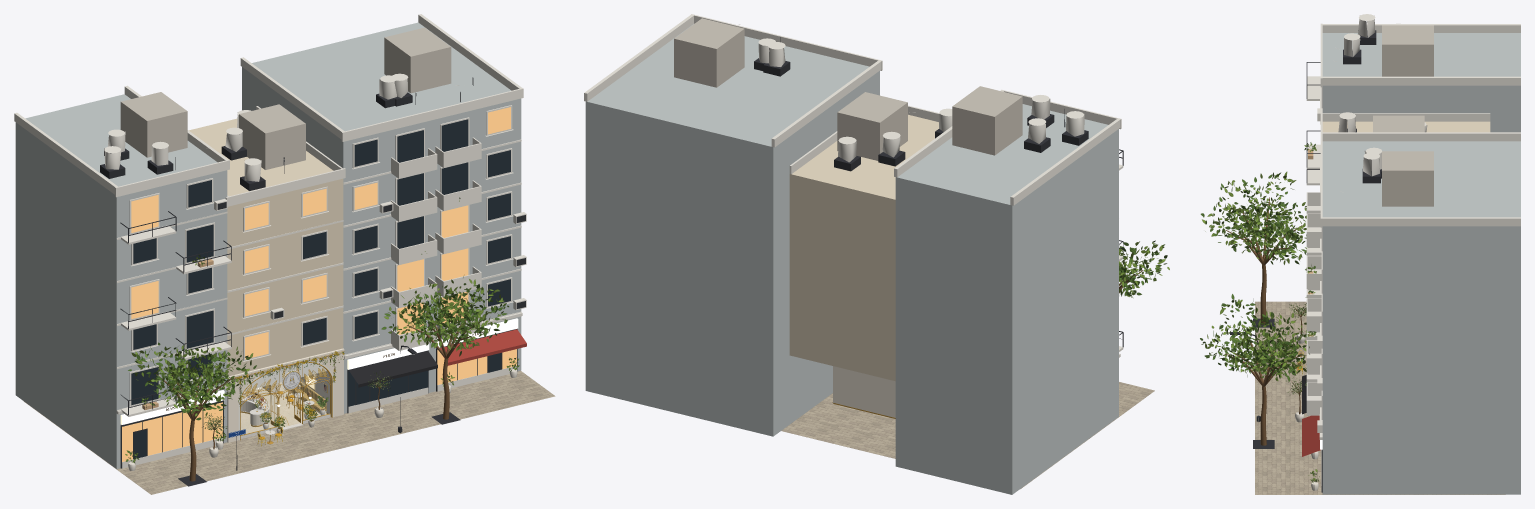
Rendered from square-50_lod1.glb.
3 views of the same model, side by side, from view 1: azimuth 30°, elevation 25°; view 2: azimuth 150°, elevation 25°; view 3: azimuth 270°, elevation 25° (orthographic). The views are drawn at different scales.
Parts seen in each view (by area): view 1: bw6, bwtrim, facade_hi, win, win_lit_n, paving, bw3, leaf, leaf2, iron, facade, sign_n (+8 smaller); view 2: bw6, facade_hi, bw3, bwtrim, paving, plaster, iron, leaf, leaf2; view 3: bw6, bwtrim, paving, bw3, leaf, leaf2, trunk, iron, facade_hi, aw_r.
Part boxes in pixels (x1,y1,x2,y2): bw6: [15, 22, 521, 468]; bwtrim: [14, 14, 526, 468]; facade_hi: [189, 118, 343, 376]; win: [131, 119, 510, 458]; win_lit_n: [122, 107, 516, 461]; paving: [24, 370, 555, 494]; bw3: [120, 27, 451, 169]; leaf: [125, 200, 518, 462]; leaf2: [126, 197, 519, 463]; iron: [100, 77, 525, 486]; facade: [227, 348, 344, 442]; sign_n: [120, 318, 518, 424]; bw6: [585, 24, 1118, 494]; facade_hi: [789, 114, 938, 381]; bw3: [674, 18, 1022, 160]; bwtrim: [584, 14, 1123, 357]; paving: [781, 382, 1154, 489]; plaster: [833, 366, 895, 417]; iron: [754, 37, 1123, 347]; leaf: [1119, 241, 1169, 297]; leaf2: [1119, 240, 1167, 296]; bw6: [1322, 33, 1520, 494]; bwtrim: [1306, 14, 1520, 491]; paving: [1255, 301, 1505, 494]; bw3: [1373, 25, 1433, 206]; leaf: [1201, 142, 1318, 481]; leaf2: [1200, 142, 1319, 482]; trunk: [1225, 197, 1306, 445]; iron: [1230, 30, 1381, 492]; facade_hi: [1322, 121, 1490, 132]; aw_r: [1302, 415, 1320, 456].
Bounding box in the file's own units: 30.99 × 22.09 × 21.1.
Materials: 68 (20 with a texture image).
